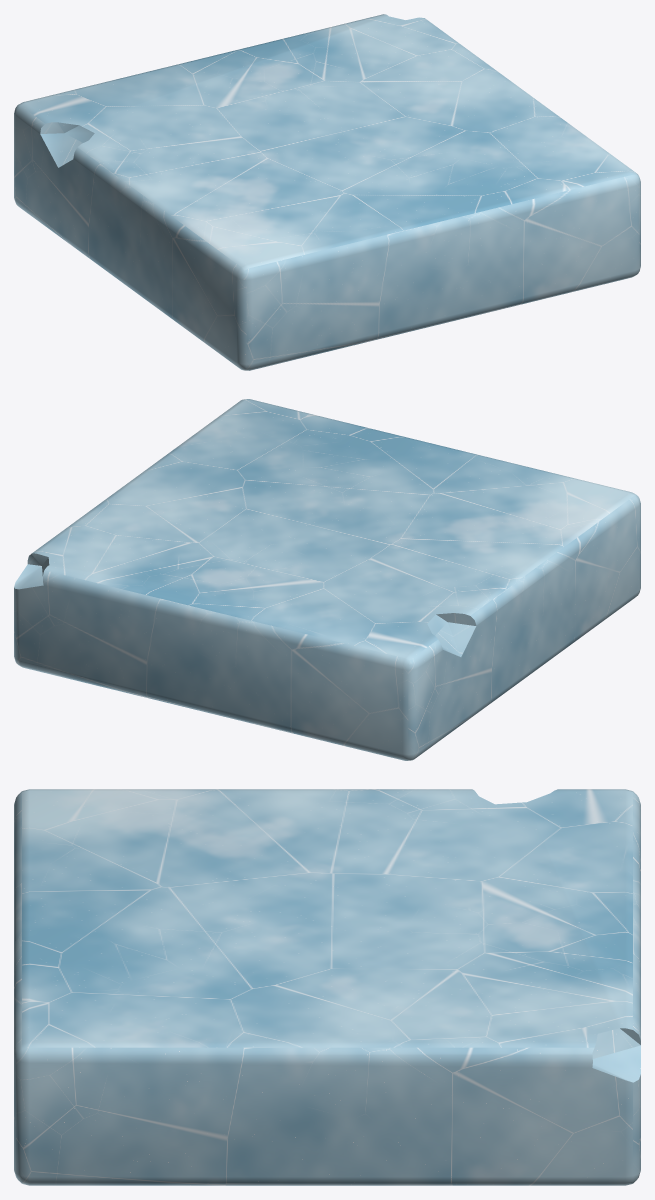
Rendered from SM_IceSlab_200x200x50.fbx.
The picture shows the model from 3 angles, top to bottom: view 1: azimuth 30°, elevation 25°; view 2: azimuth 150°, elevation 25°; view 3: azimuth 270°, elevation 25°; orthographic projection. The views are drawn at different scales.
Parts seen in each view (by area): view 1: SM_IceSlab_200x200x50; view 2: SM_IceSlab_200x200x50; view 3: SM_IceSlab_200x200x50.
Part boxes in pixels (bbox=[...]): SM_IceSlab_200x200x50: bbox=[14, 14, 640, 370]; SM_IceSlab_200x200x50: bbox=[14, 399, 640, 760]; SM_IceSlab_200x200x50: bbox=[14, 789, 640, 1185].
Size of what is drawn, in the model's own units: 200 by 200 by 50.
